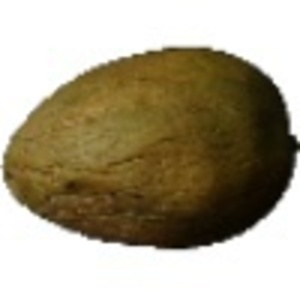mamão: (4, 39, 292, 253)
